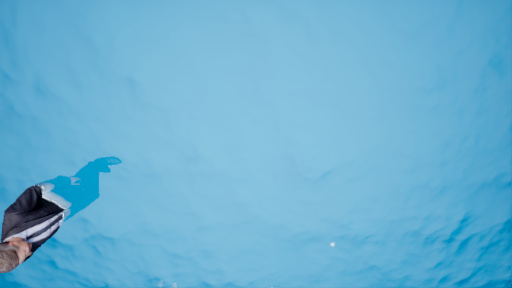person: (1, 161, 125, 273)
